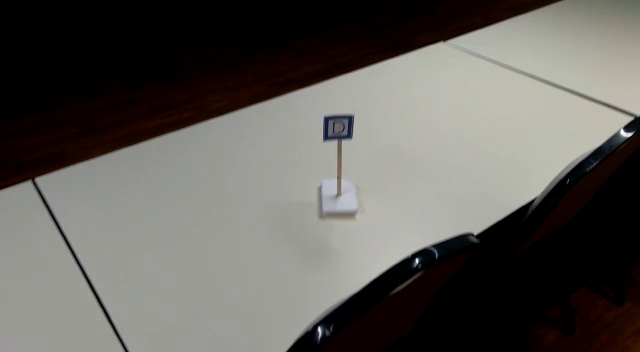durak: (323, 114, 353, 139)
